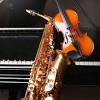Piano: (1, 39, 100, 80)
Saxophone: (22, 5, 74, 100)
Violin: (48, 1, 100, 65)
